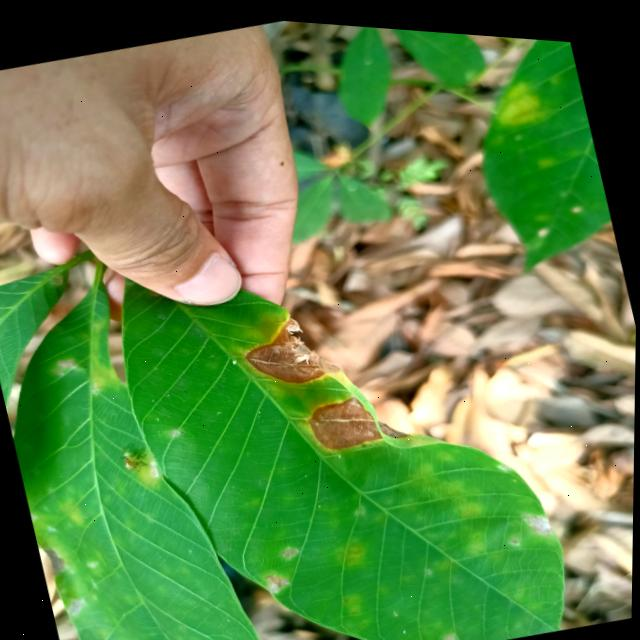Leaf-Blight: (239, 300, 345, 392), (305, 382, 385, 452), (379, 408, 411, 436), (44, 544, 69, 576)
